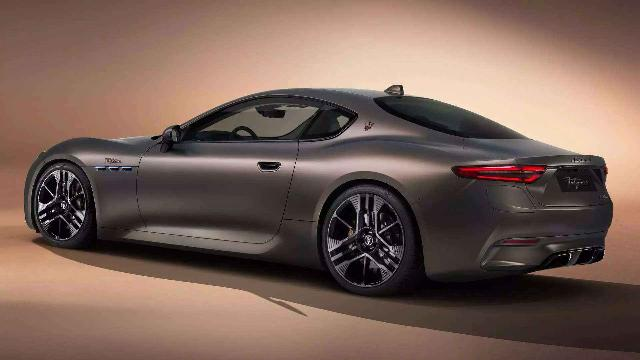maserati: (24, 84, 614, 296)
